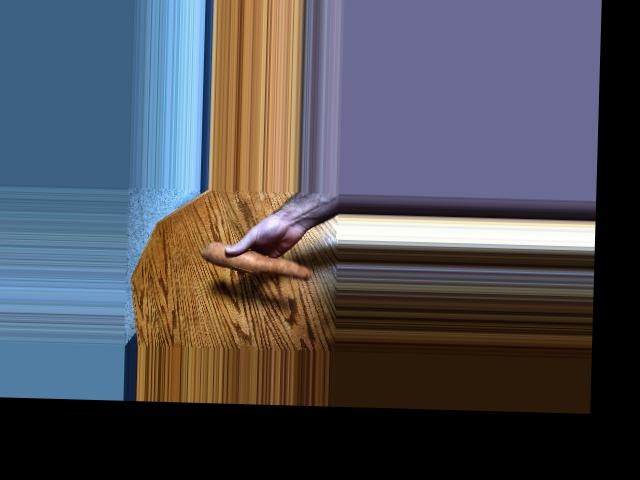sweet_potato: (202, 251, 312, 275)
